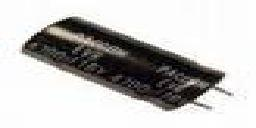Electrolytic-Capacitor: (21, 13, 239, 115)
